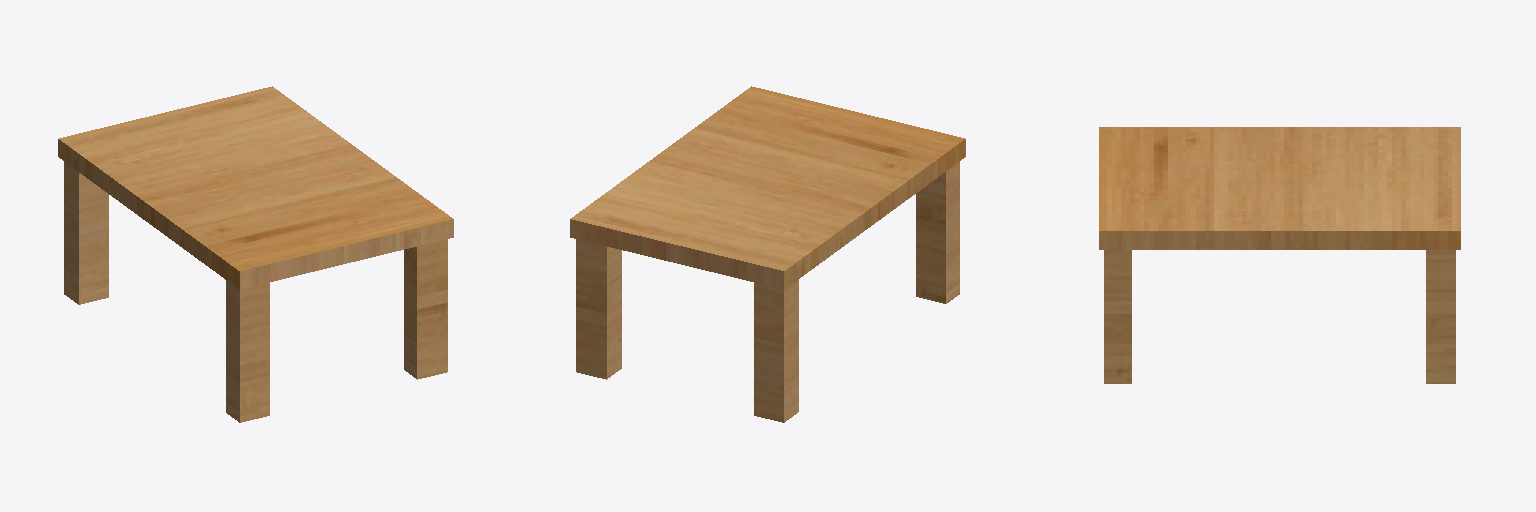
3 views of the same model, side by side, from view 1: azimuth 30°, elevation 25°; view 2: azimuth 150°, elevation 25°; view 3: azimuth 270°, elevation 25° (orthographic).
Parts seen in each view (by area): view 1: Mesa:Mesh; view 2: Mesa:Mesh; view 3: Mesa:Mesh.
Boxes of the visible parts, <box> form: Mesa:Mesh: <box>58,86,453,422</box>; Mesa:Mesh: <box>570,86,965,422</box>; Mesa:Mesh: <box>1099,127,1460,383</box>.
Size of the model in its own units: 5.94 by 4.09 by 8.71.
1 materials, 1 textured.